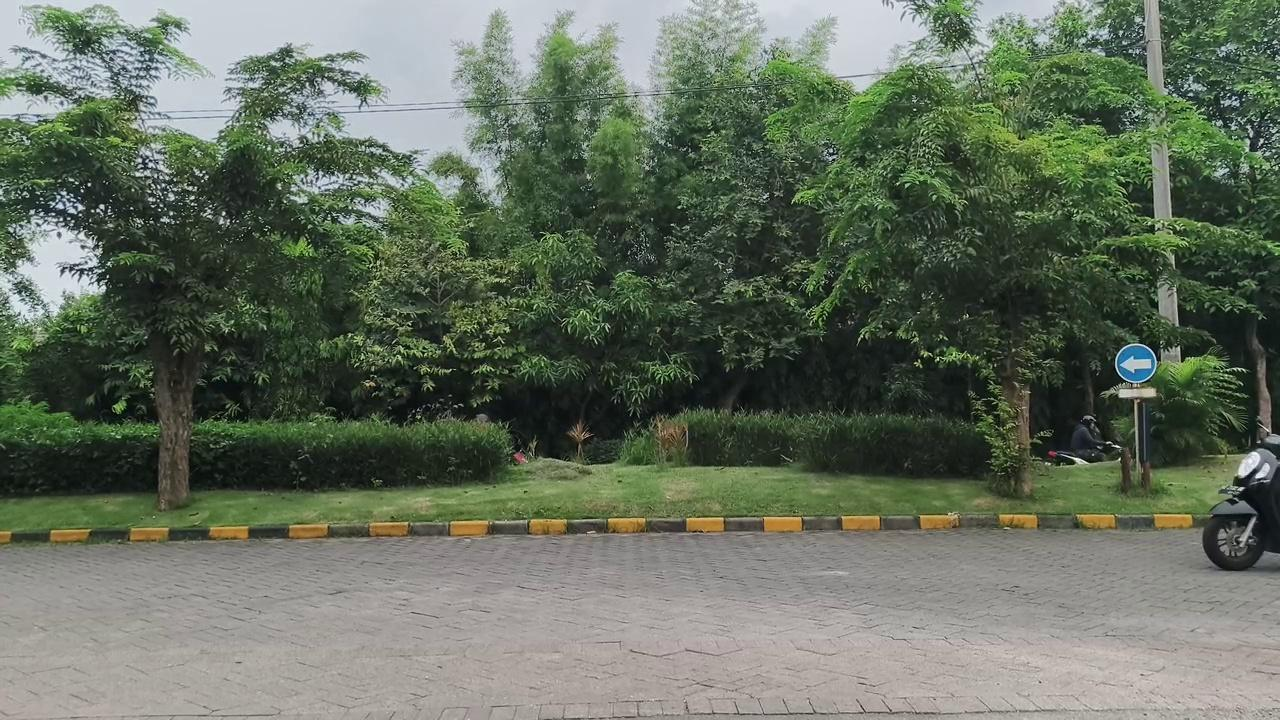Helmet: (1070, 415, 1105, 462)
Motor: (1202, 428, 1279, 570), (1046, 442, 1120, 465)
